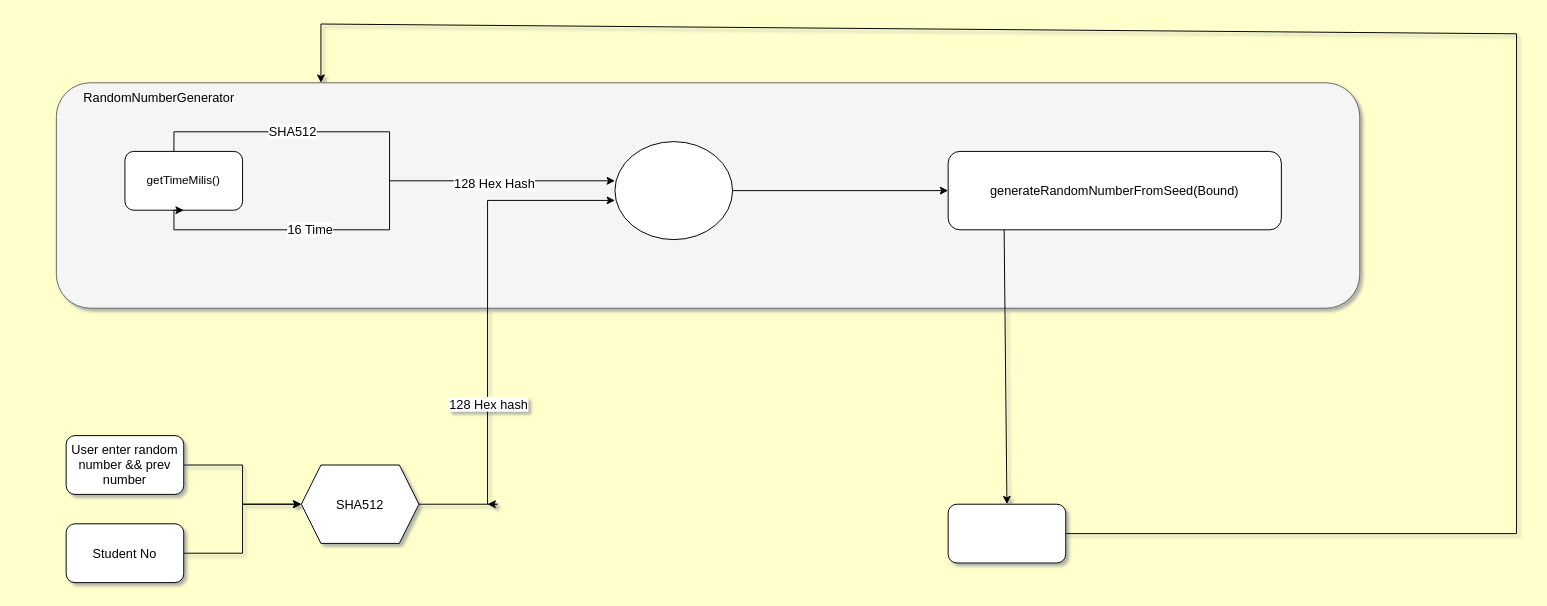
Image size: 1547x606. Some labels were removed from this diagram. The centre of each missing label's shape, as x and y in pixels:
"generate seed from hashes" belongs at point 673,190.
"if random number generated" belongs at point 1006,533.
